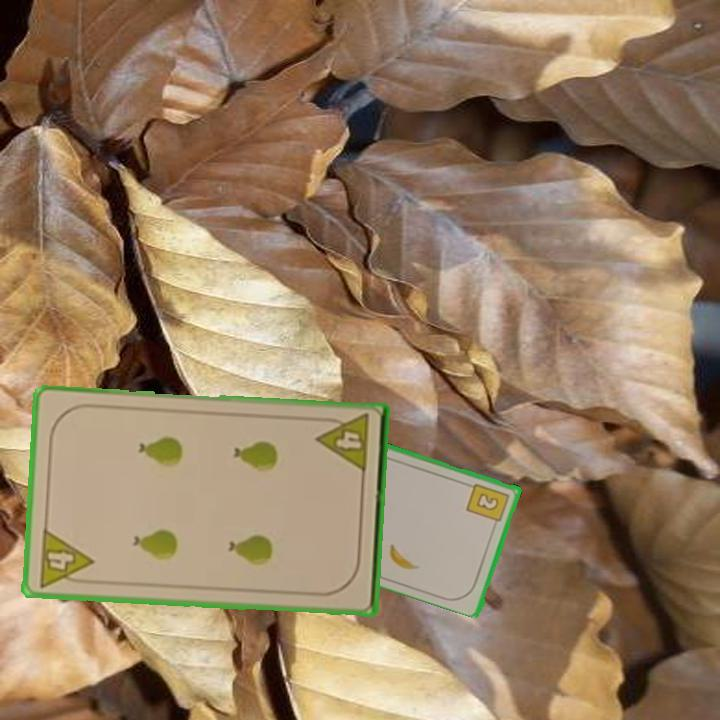2b: (464, 479, 513, 529)
4p: (35, 525, 96, 590), (314, 410, 372, 476)
